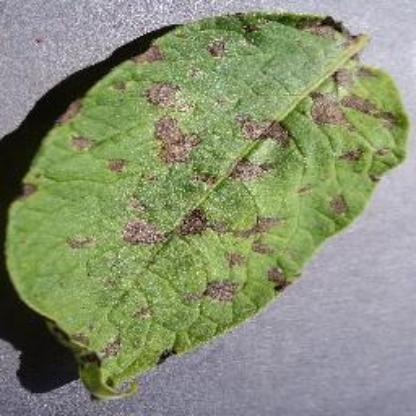Early-Blight: (6, 9, 410, 399)
